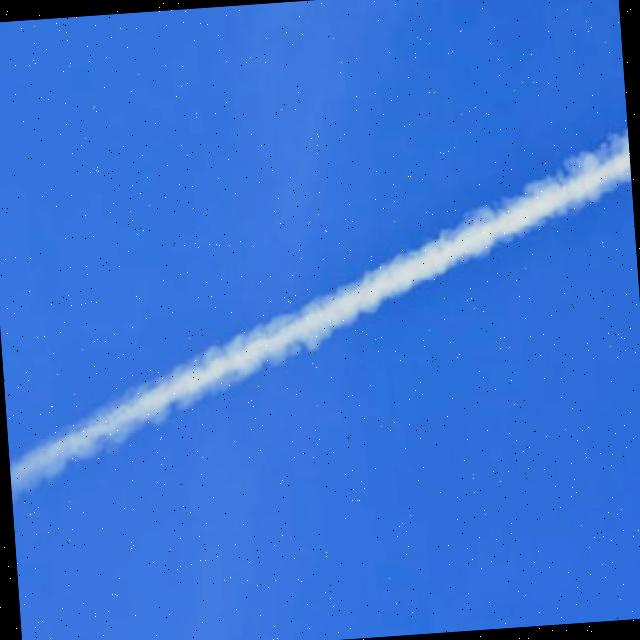Ct: (1, 65, 640, 556)
